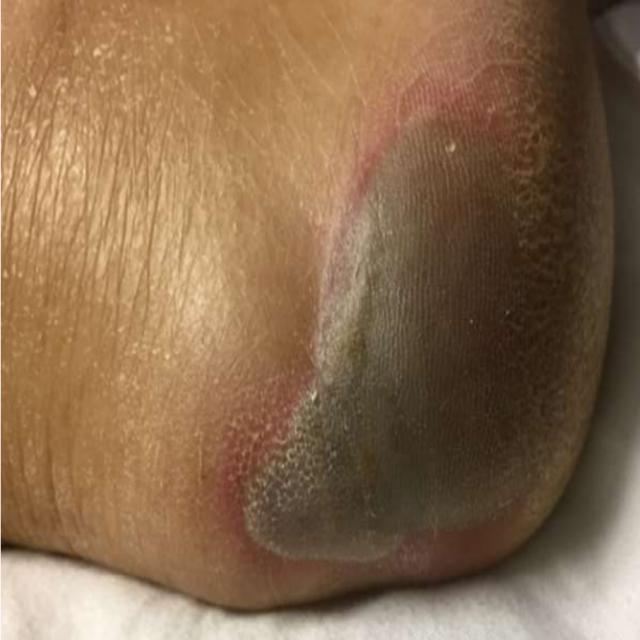DTI: (235, 110, 609, 563)
